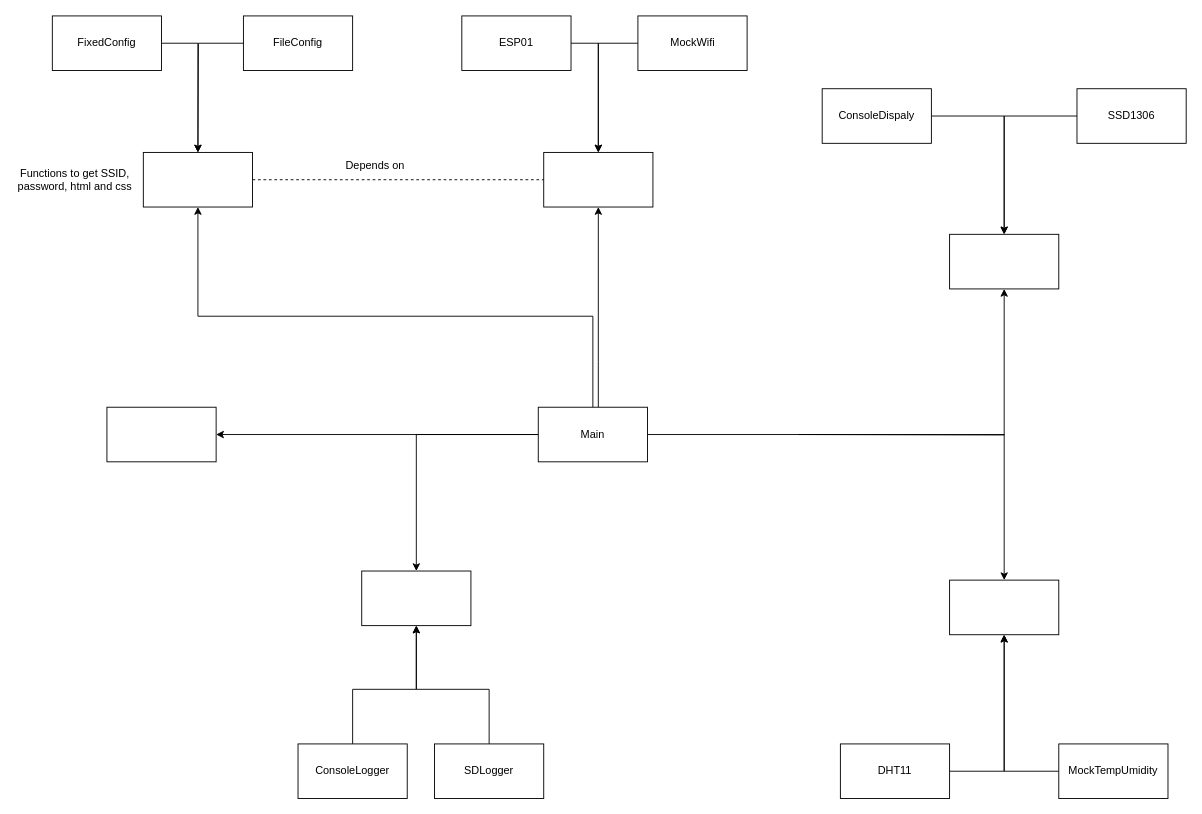
This 1202x814 diagram has some shape labels left out. The shapes that lost their labels are listed below. From the top down, each one's centre as x and y in pixels, then its label:
At point 197,179: "WifiConfig<I>".
At point 598,179: "Wifi<I>".
At point 1004,261: "Display<I>".
At point 161,434: "UI".
At point 416,598: "Logger<I>".
At point 1004,607: "TempUmidity<I>".
